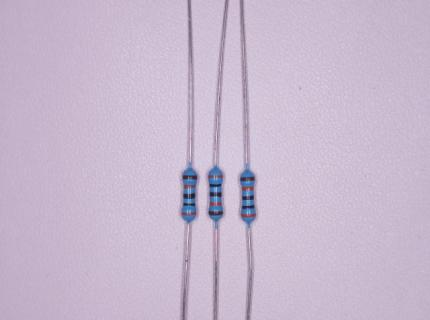Black band: (209, 192, 222, 197), (242, 195, 255, 200), (242, 205, 255, 210), (183, 194, 196, 199), (183, 202, 195, 207), (209, 183, 222, 187)
Brown band: (240, 176, 255, 182), (182, 175, 198, 180), (208, 211, 224, 216)
Orange band: (241, 213, 256, 218), (183, 184, 196, 189), (241, 186, 254, 191), (181, 212, 197, 216), (210, 201, 222, 206), (208, 175, 223, 178)
